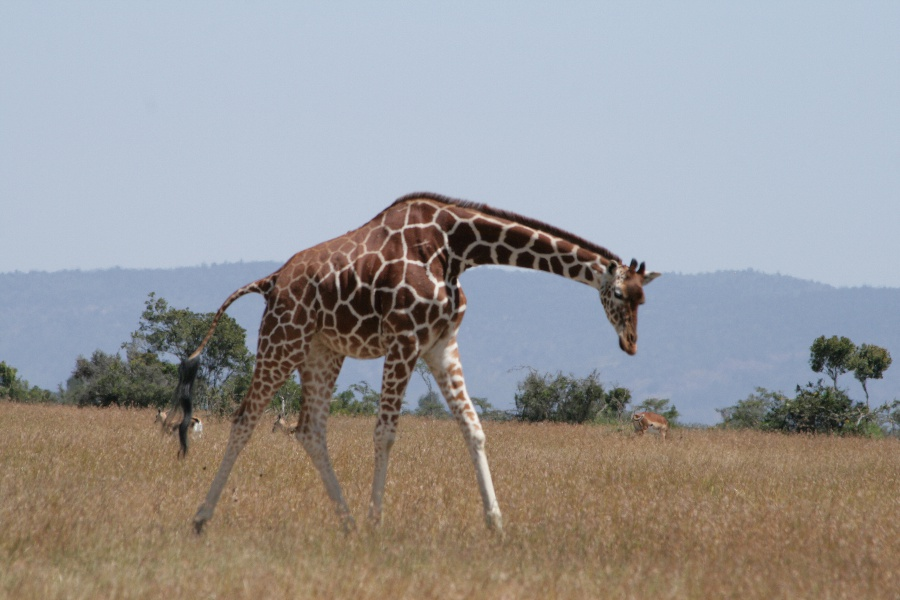giraffe: (185, 186, 666, 531)
